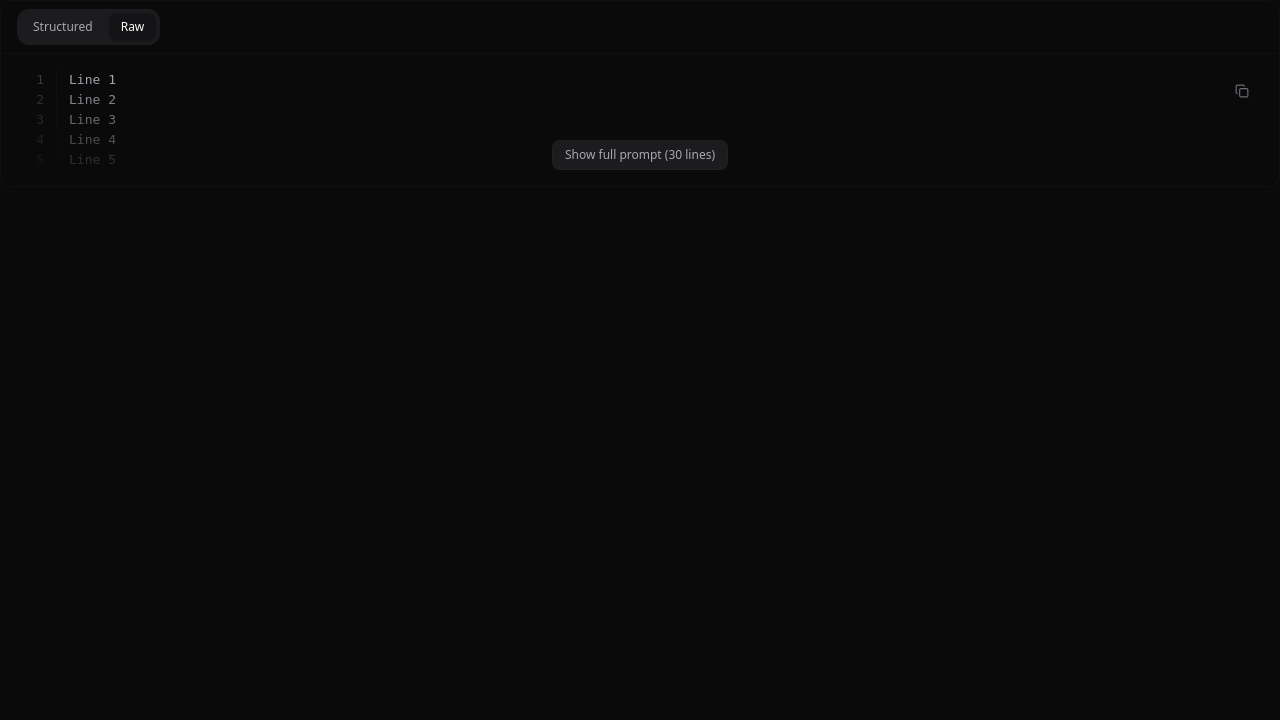
PromptViewer › truncation › expands content when "Show full prompt" is clicked
The image size is (1280, 720).
Click the button "Show full prompt (30 lines)": (640, 155) [552,140,728,170]
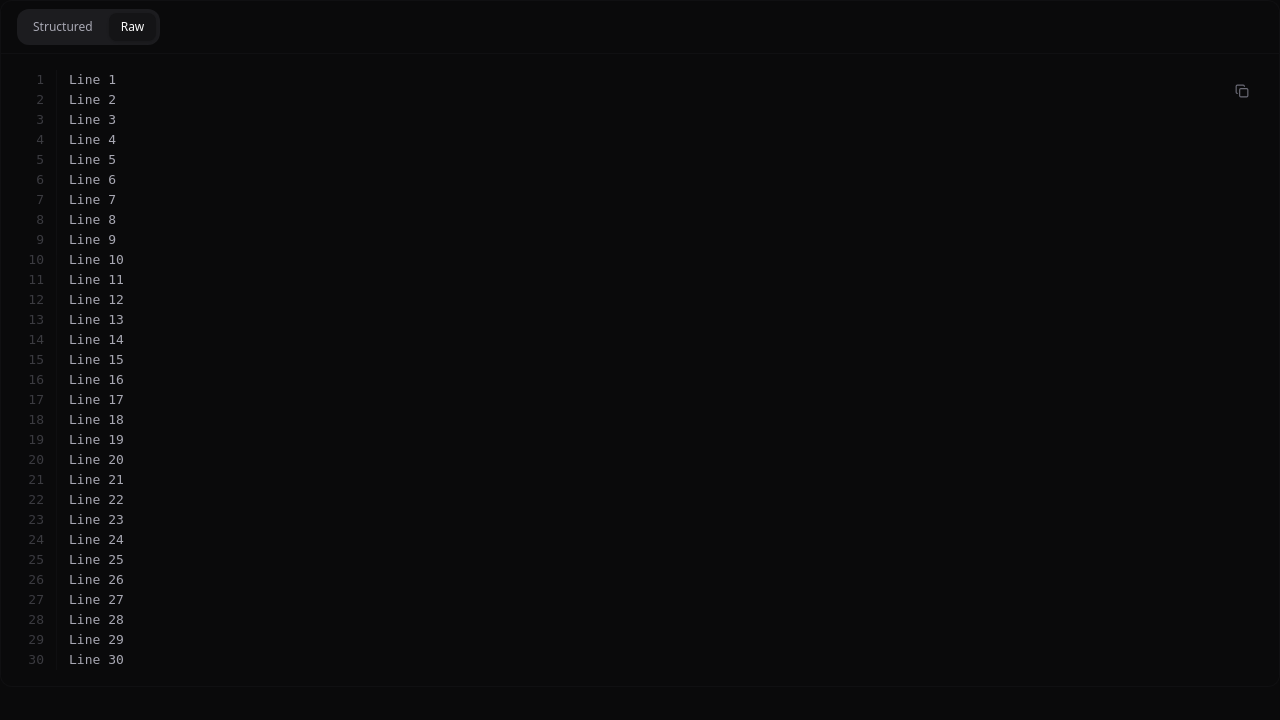
Expected: the button "Show full prompt" is gone
Expected: the text "30" is shown, [17,650,57,670]
